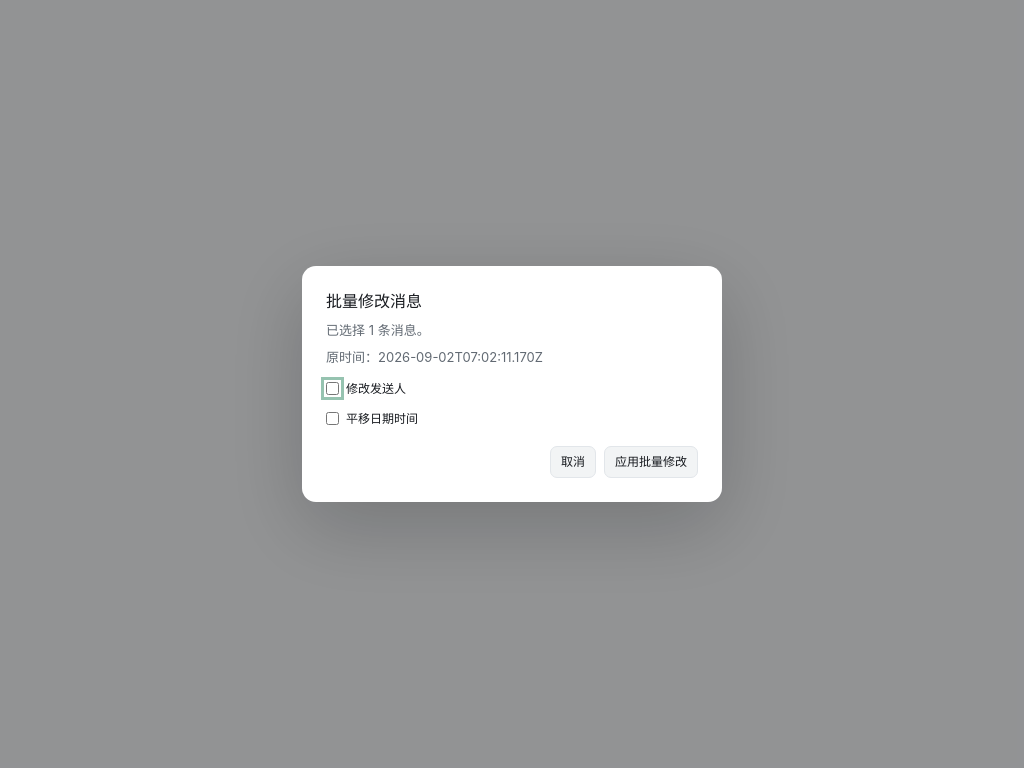
Scenario: BatchMessageDialog › reports an invalid time instead of submitting it
Click the checkbox labelled "平移日期时间".
click(332, 419)  # box [326,412,339,425]
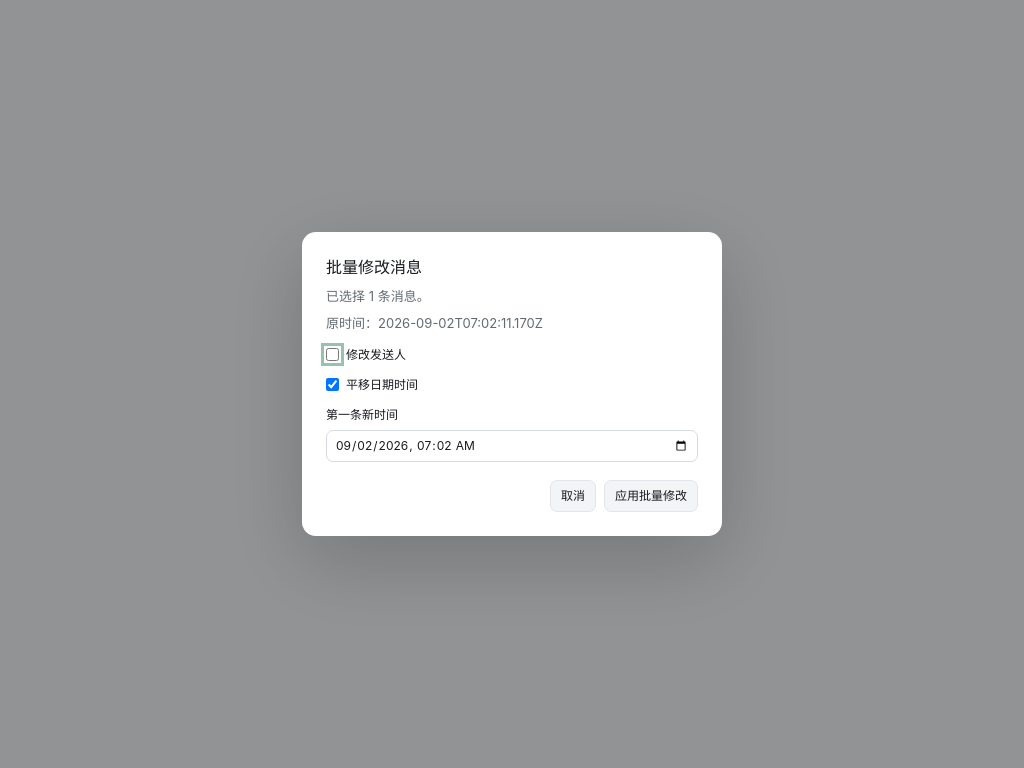
Clear the field labelled "第一条新时间" at (512, 446), box [326,430,698,462]
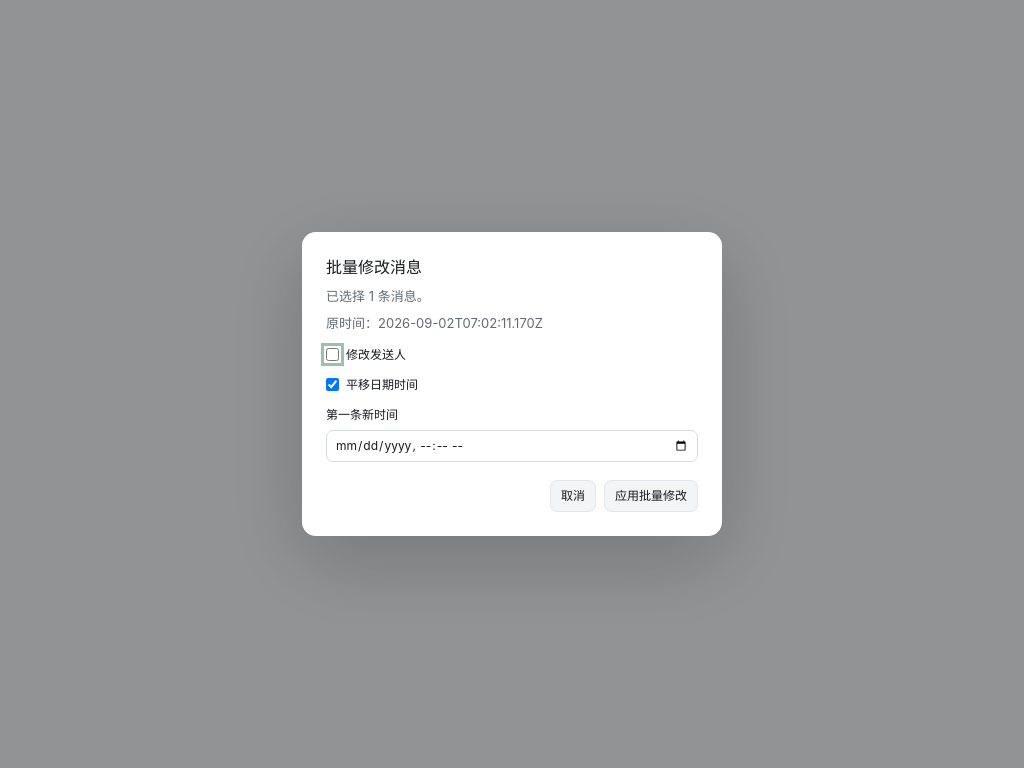
Click the button "应用批量修改".
click(651, 496)  # box [604,480,698,512]
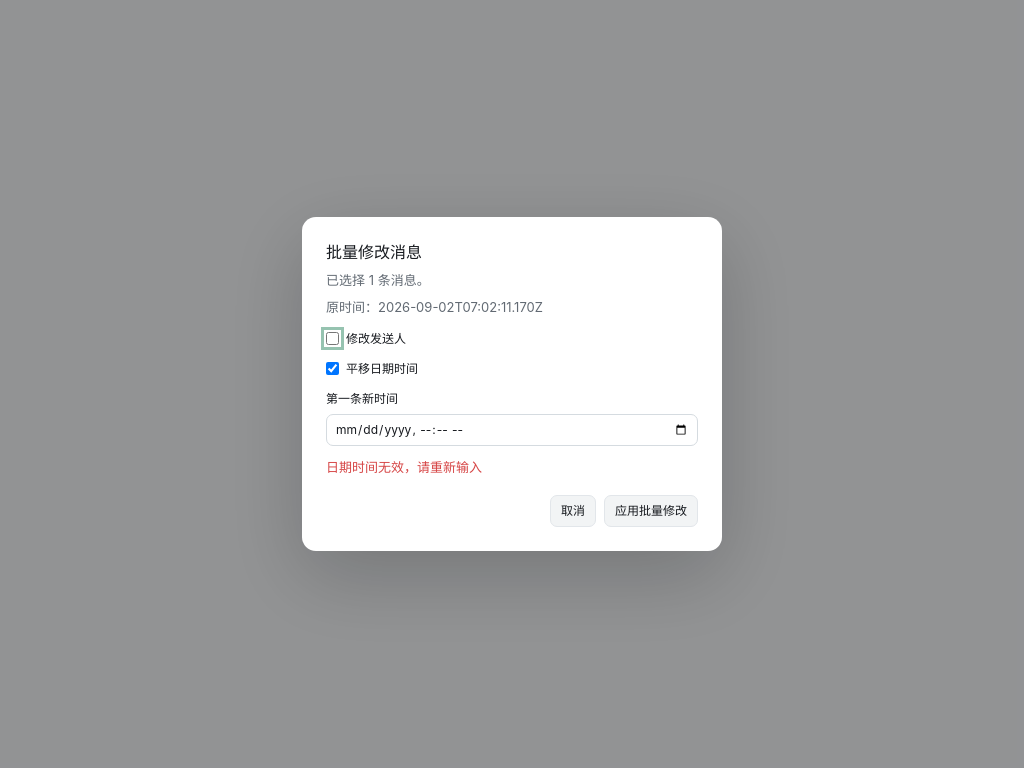
Expected: the message shows "日期时间无效", [326,459,482,475]
